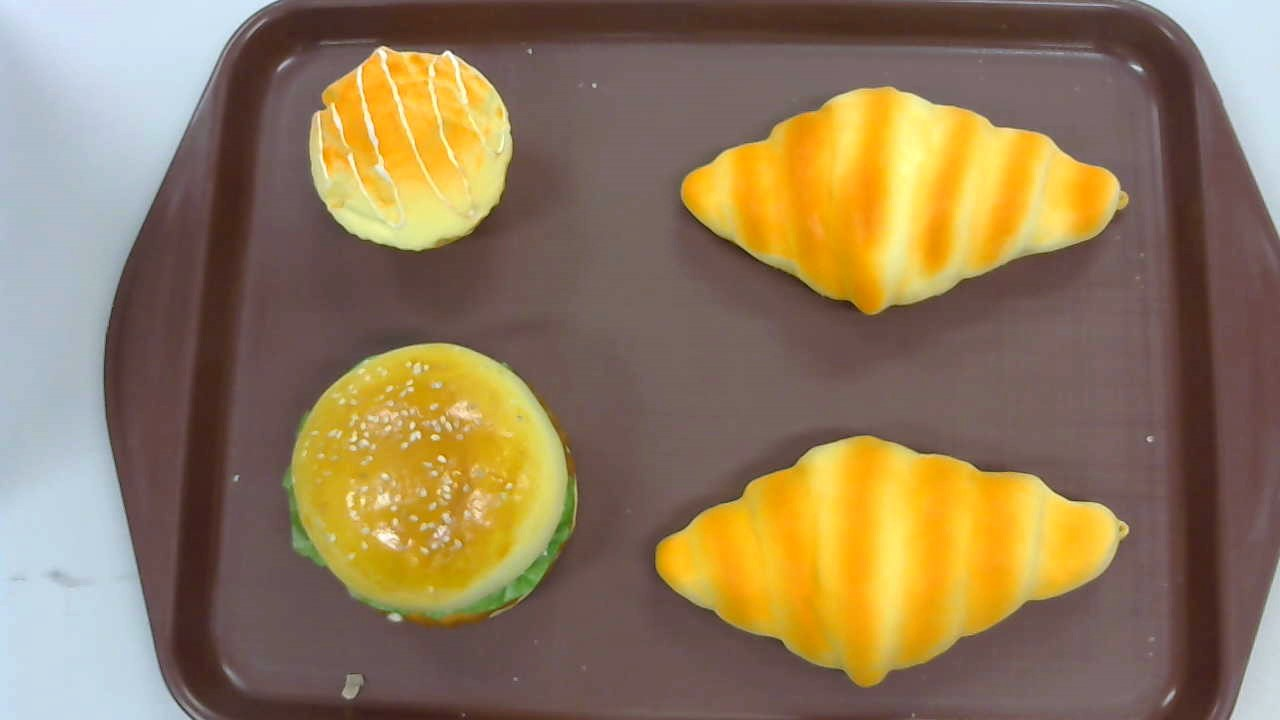croissant: (654, 433, 1129, 690), (679, 84, 1128, 318)
cupcake: (308, 45, 514, 253)
hamburger: (282, 343, 580, 628)
